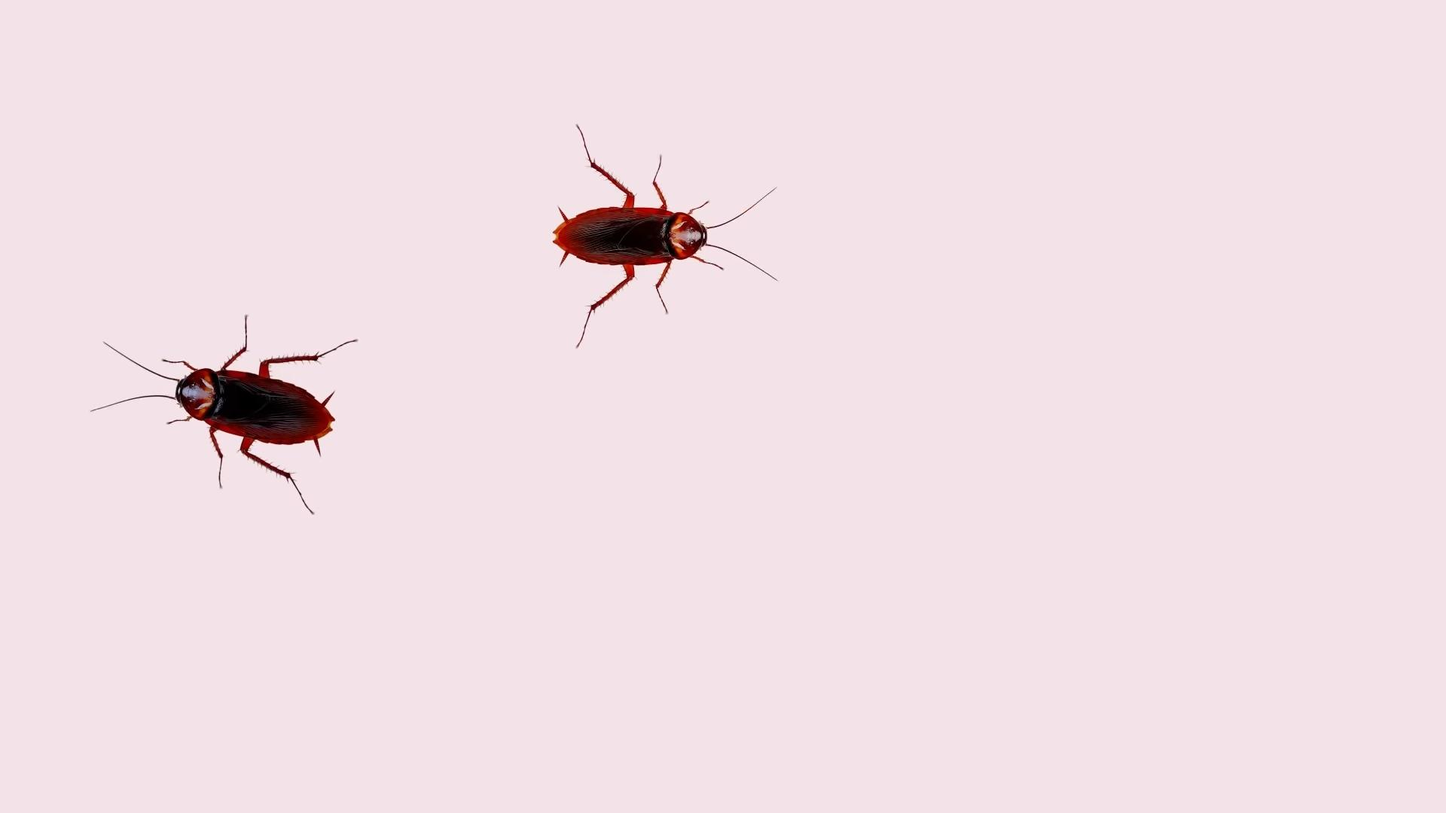cockroach: (96, 292, 364, 511), (518, 121, 782, 342)
